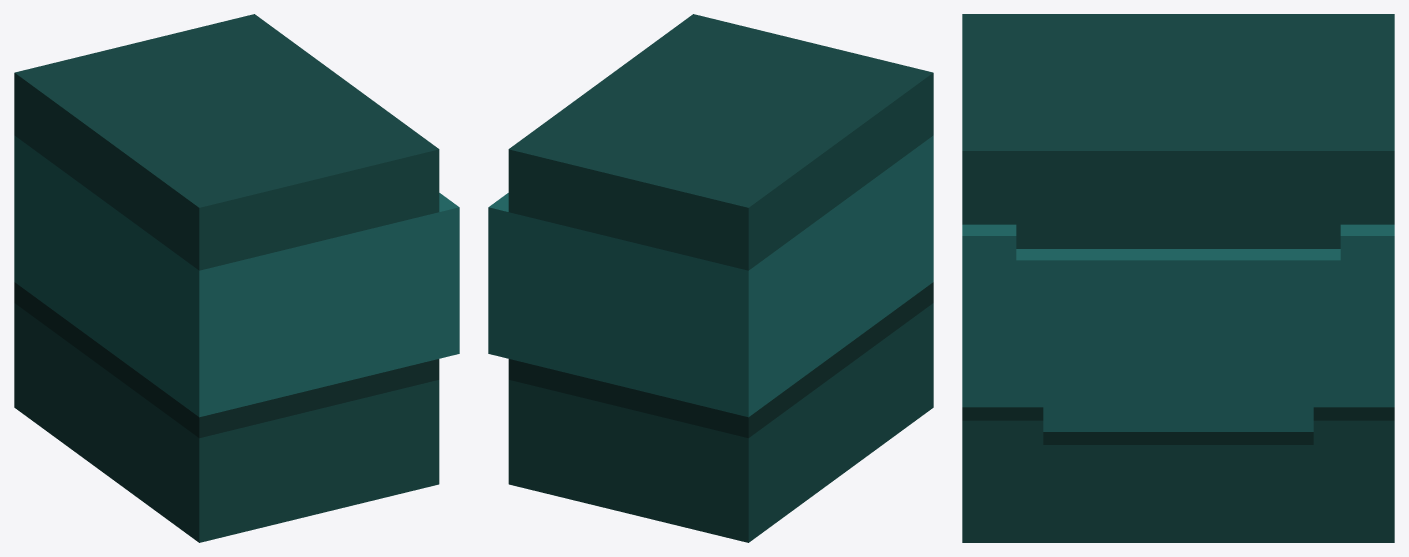
File: WinterGrass-19.obj
3 renders of one model, left to right at view 1: azimuth 30°, elevation 25°; view 2: azimuth 150°, elevation 25°; view 3: azimuth 270°, elevation 25°, orthographic. The views are drawn at different scales.
Bounding box in the file's own units: 1.3 × 1.6 × 1.6.
1 material, 1 textured.
